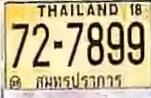2: (31, 22, 49, 67)
7: (11, 22, 28, 67), (66, 21, 83, 66)
8: (86, 21, 103, 65)
9: (106, 21, 124, 64), (127, 20, 144, 64)
SPK: (34, 71, 125, 90)
